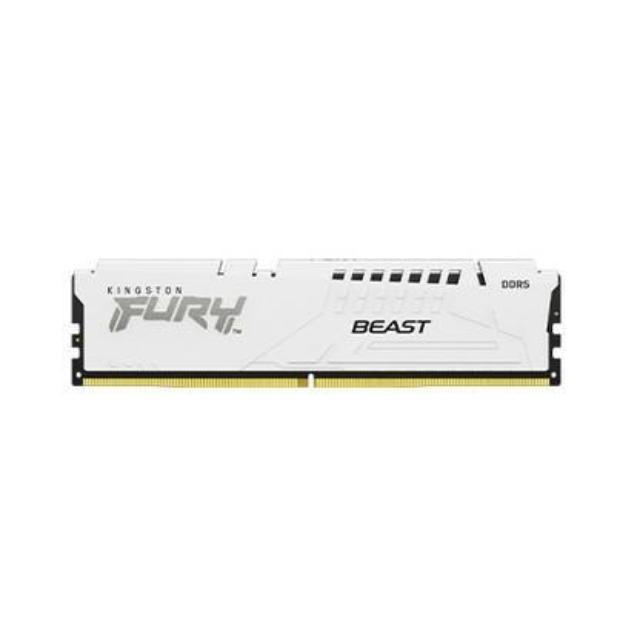RAM: (62, 248, 568, 403)
